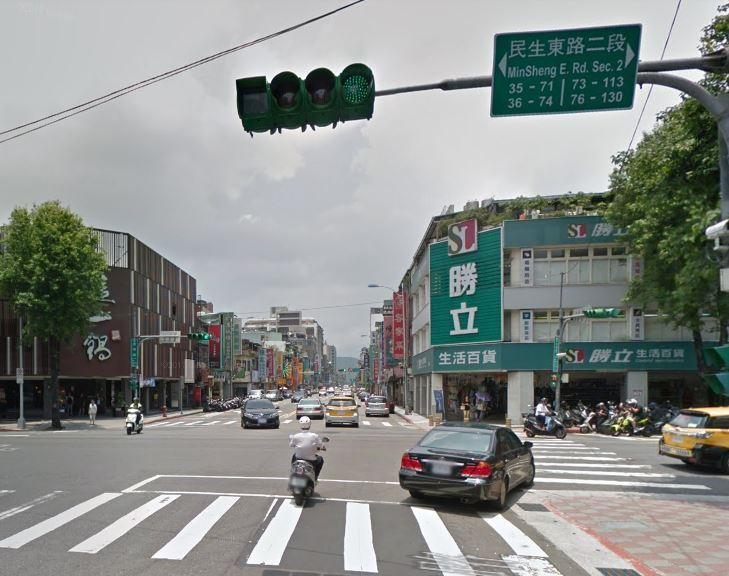car: (399, 420, 543, 514), (653, 396, 729, 470), (241, 389, 280, 428), (325, 390, 359, 432), (297, 391, 327, 422), (368, 391, 395, 418)
green_traffic_light: (230, 58, 377, 135)
motorcycle: (284, 431, 333, 503), (124, 404, 143, 434)
